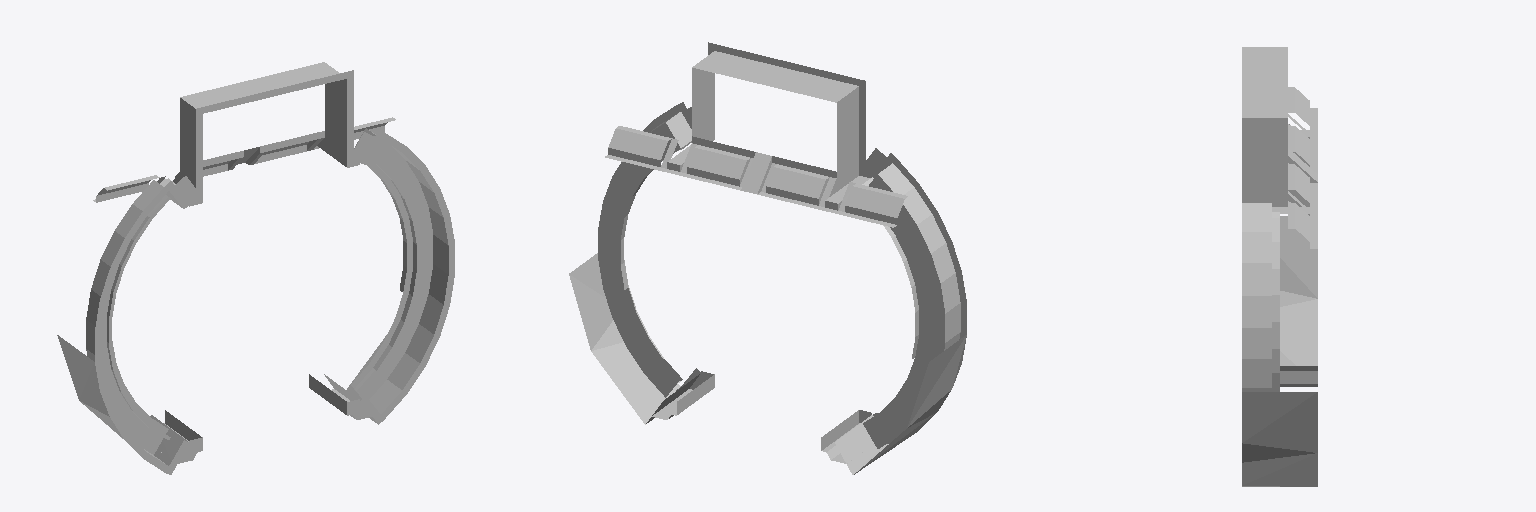
File: ROCKGYM12.obj
3 views of the same model, side by side, from view 1: azimuth 30°, elevation 25°; view 2: azimuth 150°, elevation 25°; view 3: azimuth 270°, elevation 25° (orthographic).
Parts seen in each view (by area): view 1: ROCKGYM; view 2: ROCKGYM; view 3: ROCKGYM.
Boxes of the visible parts, box(x1,y1,x2,y2) form: ROCKGYM: box(57, 62, 454, 474); ROCKGYM: box(569, 42, 966, 474); ROCKGYM: box(1242, 47, 1317, 486).
Bounding box in the file's own units: 438 × 420 × 80.